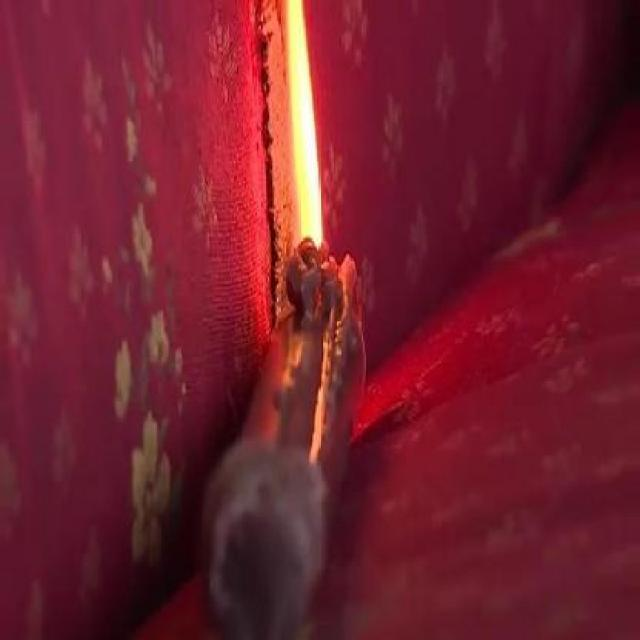fire: (281, 6, 344, 242)
